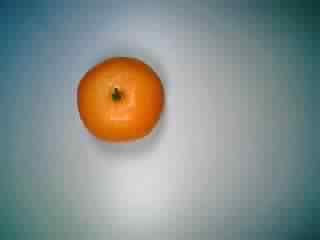orange: (68, 50, 169, 145)
